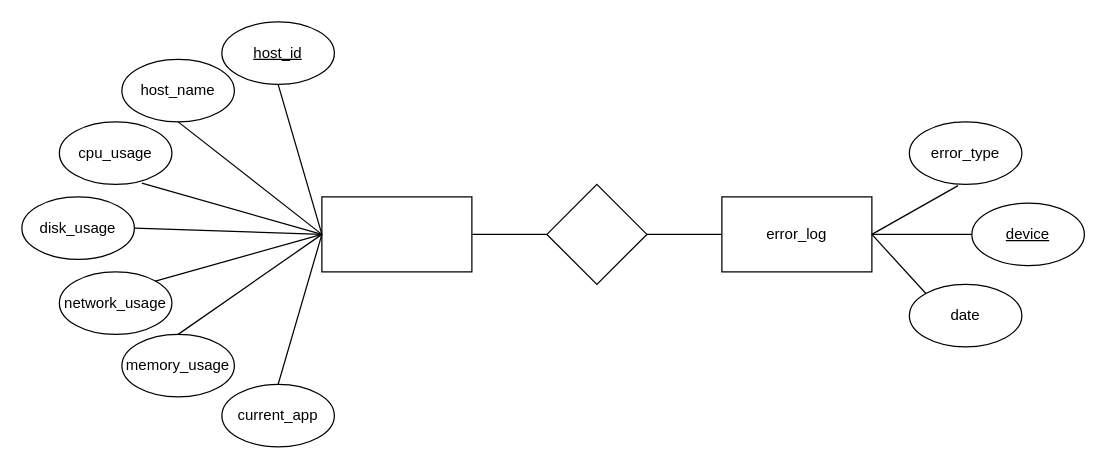
This 1106x469 diagram has some shape labels left out. The centre of each missing label's shape, as x and y in pixels:
"devices" belongs at point 396,234.
"generate" belongs at point 596,233.
